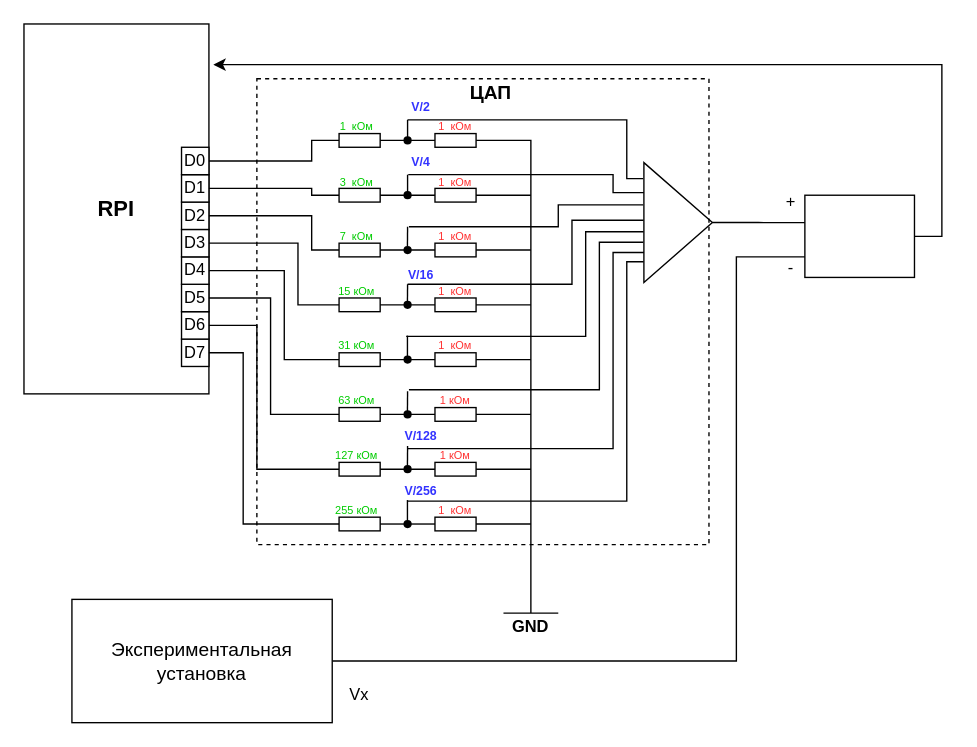
Image size: 977x747. Some labels were removed from this diagram. The shapes that lost their labels are listed below. From the top down, each one's centre as x and y in pixels, then its label:
pixel 407 194: V/8
pixel 677 221: Сумматор напряжения
pixel 859 235: Компаратор
pixel 407 304: V/32
pixel 407 359: V/64
